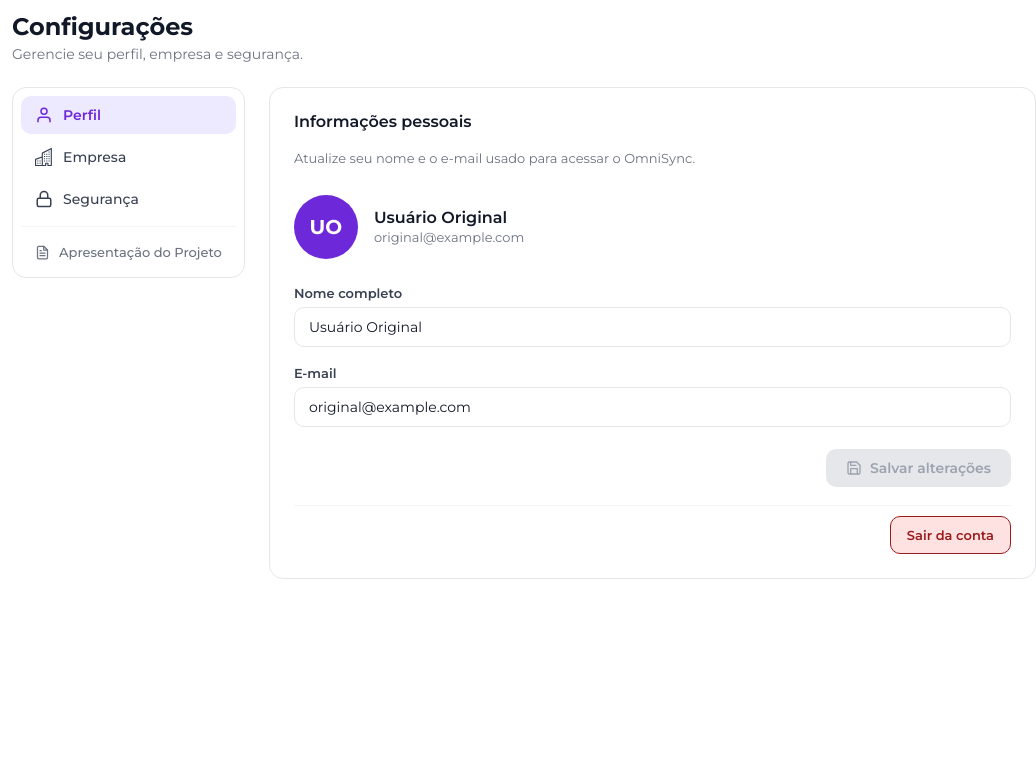
SettingsScreen › updates the authenticated user profile and refreshes the session
The image size is (1036, 780).
Replace the text in the field labelled "Nome completo" with "Novo Nome" at [652, 326], box top-left (294, 306), bottom-right (1011, 346)
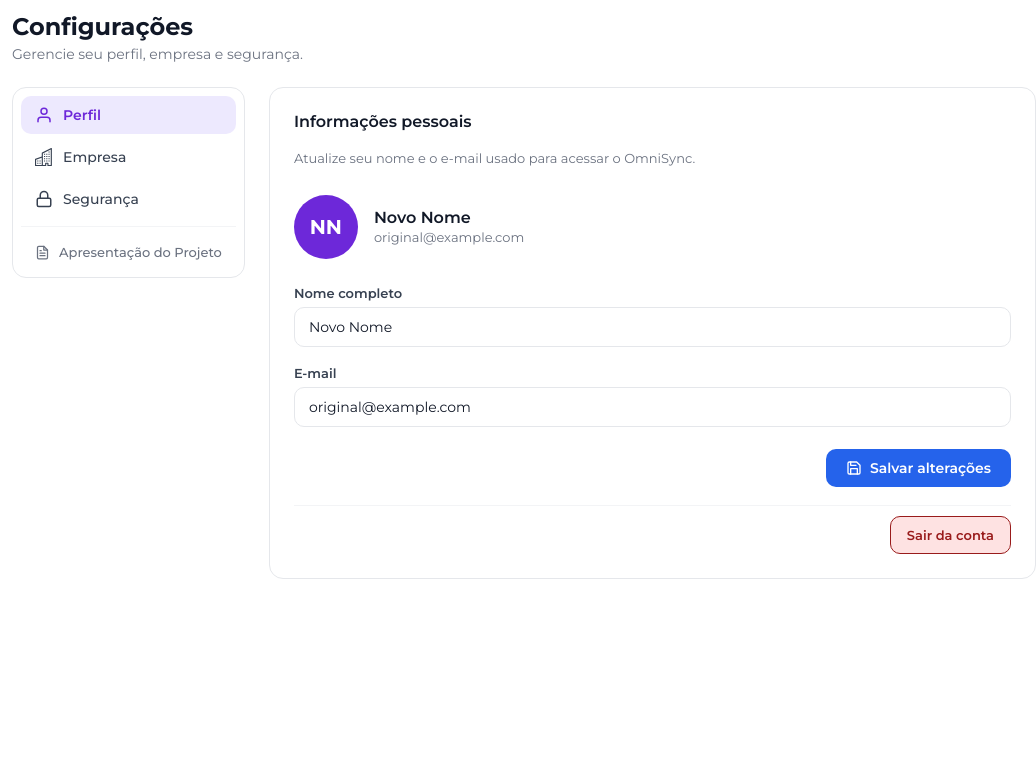
Replace the text in the field labelled "E-mail" with "NOVO@EXAMPLE.COM" at [652, 406], box top-left (294, 386), bottom-right (1011, 426)
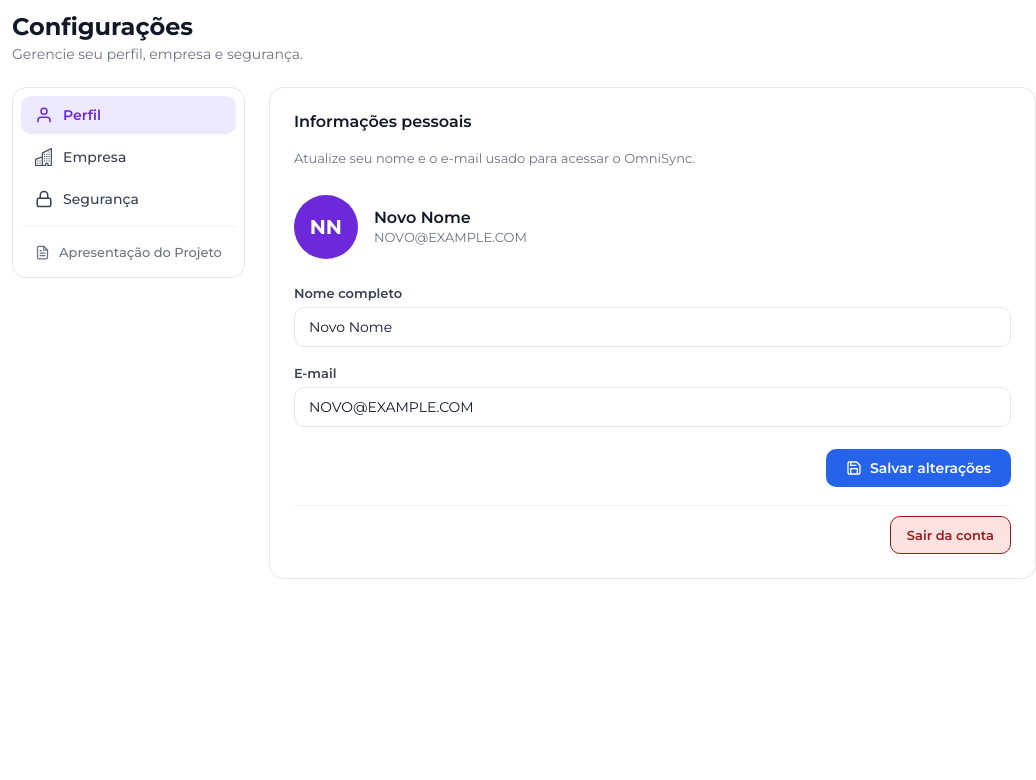
Click the button "Salvar alterações".
click(918, 468)  # box top-left (826, 448), bottom-right (1011, 486)
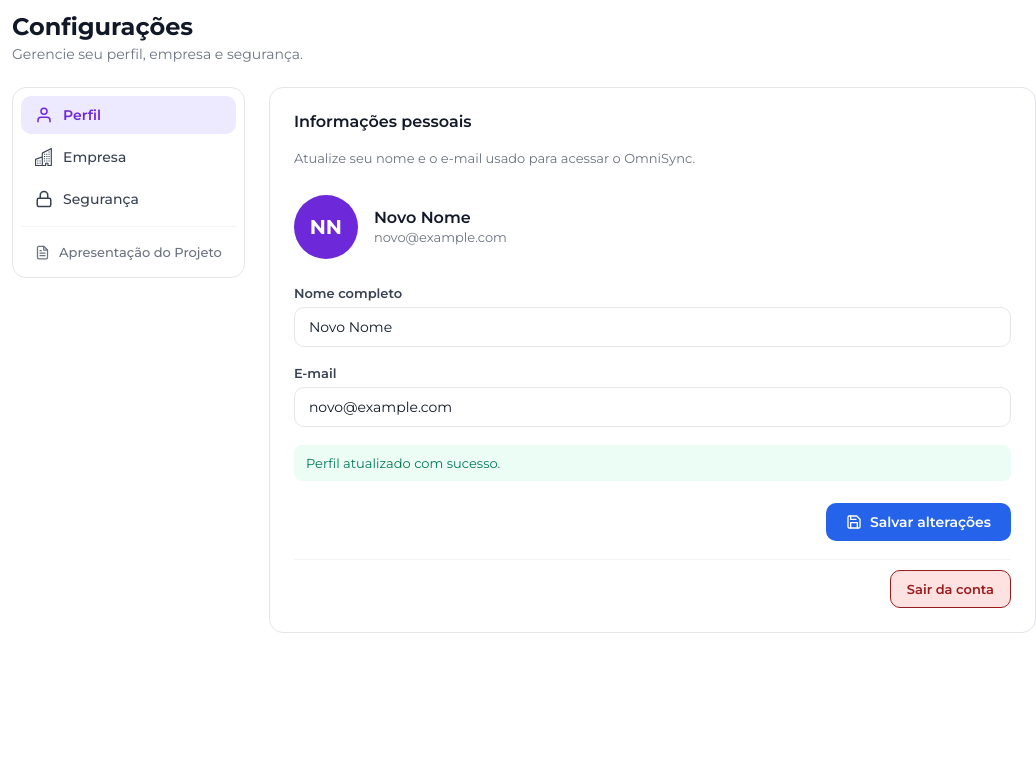
Now the message reads "Perfil atualizado com sucesso.", box top-left (306, 454), bottom-right (500, 470)
